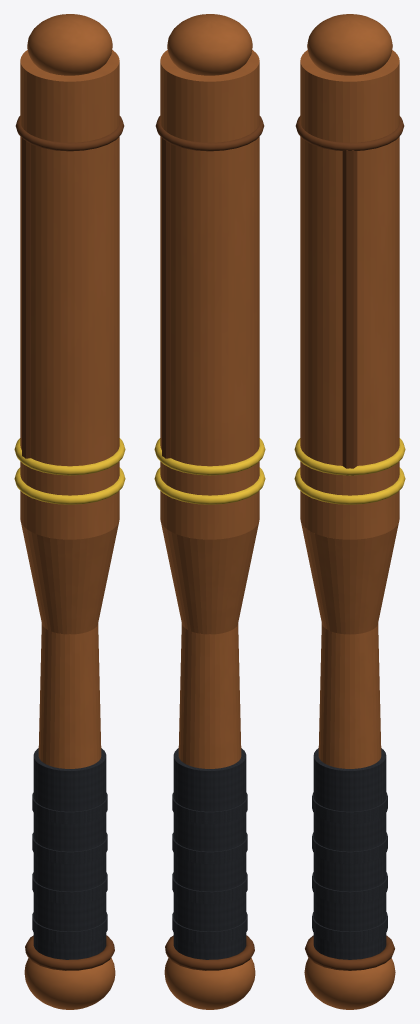
Rendered from wep_bat.glb.
The picture shows the model from 3 angles, left to right: view 1: azimuth 30°, elevation 25°; view 2: azimuth 210°, elevation 25°; view 3: azimuth 270°, elevation 25°; orthographic projection.
Parts seen in each view (by area): view 1: wep_bat_barrel, wep_bat_grip_wrap, wep_bat_grip_upper, wep_bat_shoulder, wep_bat_barrel_end, wep_bat_knob, wep_bat_grain_l, wep_bat_knob_ring, wep_bat_band_lower, wep_bat_band_upper, wep_bat_barrel_ring, wep_bat_wrap_rib3 (+3 smaller); view 2: wep_bat_barrel, wep_bat_grip_wrap, wep_bat_grip_upper, wep_bat_shoulder, wep_bat_barrel_end, wep_bat_knob, wep_bat_grain_r, wep_bat_knob_ring, wep_bat_band_lower, wep_bat_band_upper, wep_bat_barrel_ring, wep_bat_wrap_rib3 (+3 smaller); view 3: wep_bat_barrel, wep_bat_grip_wrap, wep_bat_grip_upper, wep_bat_shoulder, wep_bat_grain_r, wep_bat_barrel_end, wep_bat_knob, wep_bat_band_lower, wep_bat_knob_ring, wep_bat_band_upper, wep_bat_barrel_ring, wep_bat_wrap_rib0 (+3 smaller).
Part boxes in pixels (x1,y1,x2,y2): wep_bat_barrel: [20, 50, 119, 539]; wep_bat_grip_wrap: [33, 748, 106, 959]; wep_bat_grip_upper: [38, 623, 101, 768]; wep_bat_shoulder: [20, 519, 119, 634]; wep_bat_barrel_end: [27, 14, 112, 75]; wep_bat_knob: [24, 957, 115, 1009]; wep_bat_grain_l: [22, 138, 30, 458]; wep_bat_knob_ring: [25, 935, 114, 970]; wep_bat_band_lower: [14, 467, 125, 504]; wep_bat_band_upper: [14, 438, 125, 475]; wep_bat_barrel_ring: [15, 116, 124, 151]; wep_bat_wrap_rib3: [32, 792, 107, 824]; wep_bat_barrel: [160, 50, 259, 539]; wep_bat_grip_wrap: [173, 748, 246, 959]; wep_bat_grip_upper: [178, 623, 241, 768]; wep_bat_shoulder: [160, 519, 259, 634]; wep_bat_barrel_end: [167, 14, 252, 75]; wep_bat_knob: [164, 957, 255, 1009]; wep_bat_grain_r: [162, 138, 170, 458]; wep_bat_knob_ring: [165, 935, 254, 970]; wep_bat_band_lower: [154, 467, 265, 504]; wep_bat_band_upper: [154, 438, 265, 475]; wep_bat_barrel_ring: [155, 116, 264, 151]; wep_bat_wrap_rib3: [172, 792, 247, 824]; wep_bat_barrel: [300, 50, 399, 539]; wep_bat_grip_wrap: [313, 748, 386, 959]; wep_bat_grip_upper: [318, 623, 381, 768]; wep_bat_shoulder: [301, 522, 398, 634]; wep_bat_grain_r: [342, 150, 357, 475]; wep_bat_barrel_end: [307, 14, 392, 75]; wep_bat_knob: [304, 958, 395, 1009]; wep_bat_band_lower: [294, 467, 405, 504]; wep_bat_knob_ring: [305, 935, 394, 970]; wep_bat_band_upper: [294, 438, 405, 475]; wep_bat_barrel_ring: [295, 116, 404, 150]; wep_bat_wrap_rib0: [312, 912, 387, 943].
Bounding box in the file's own units: 0.0756 × 0.74 × 0.0756.
4 materials, 4 textured.
